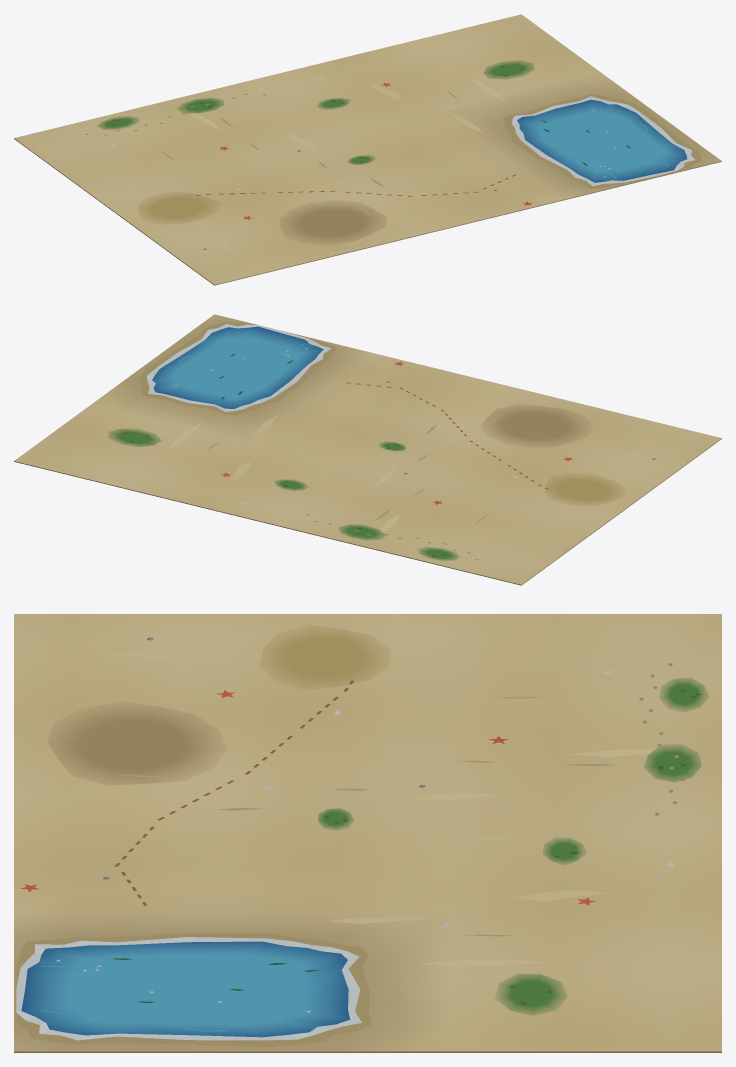
The model's file is Decor_PirateShip_Floor.fbx.
3 views of the same model, one above another, from view 1: azimuth 30°, elevation 25°; view 2: azimuth 150°, elevation 25°; view 3: azimuth 270°, elevation 25° (orthographic). The views are drawn at different scales.
Visible parts, largest first — view 1: Floor_Body; view 2: Floor_Body; view 3: Floor_Body.
Part boxes in pixels (box(x1,y1,x2,y2)): Floor_Body: box(14, 14, 721, 285); Floor_Body: box(14, 314, 721, 585); Floor_Body: box(14, 614, 721, 1052).
Bounding box in the file's own units: 190 × 0.5 × 130.
